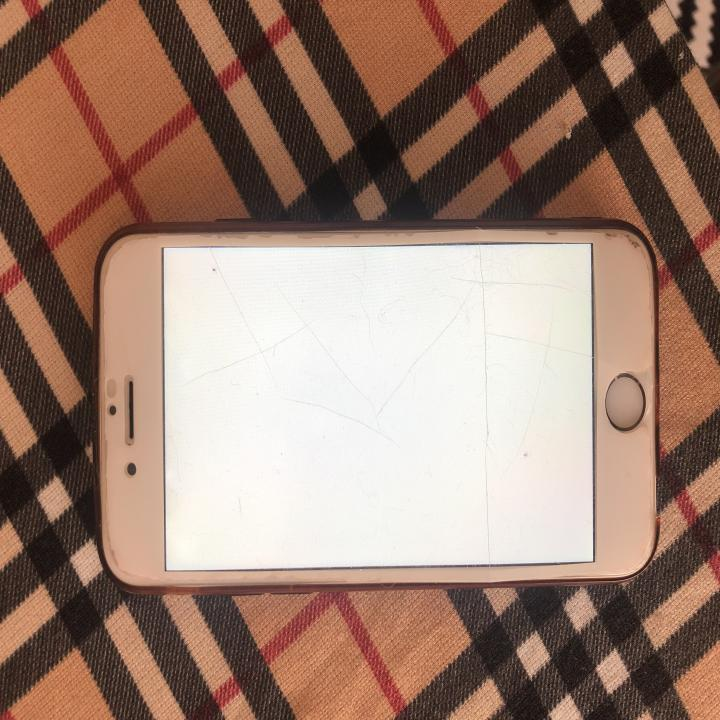Scratches: (450, 248, 592, 553), (293, 298, 443, 484), (178, 246, 284, 384)
